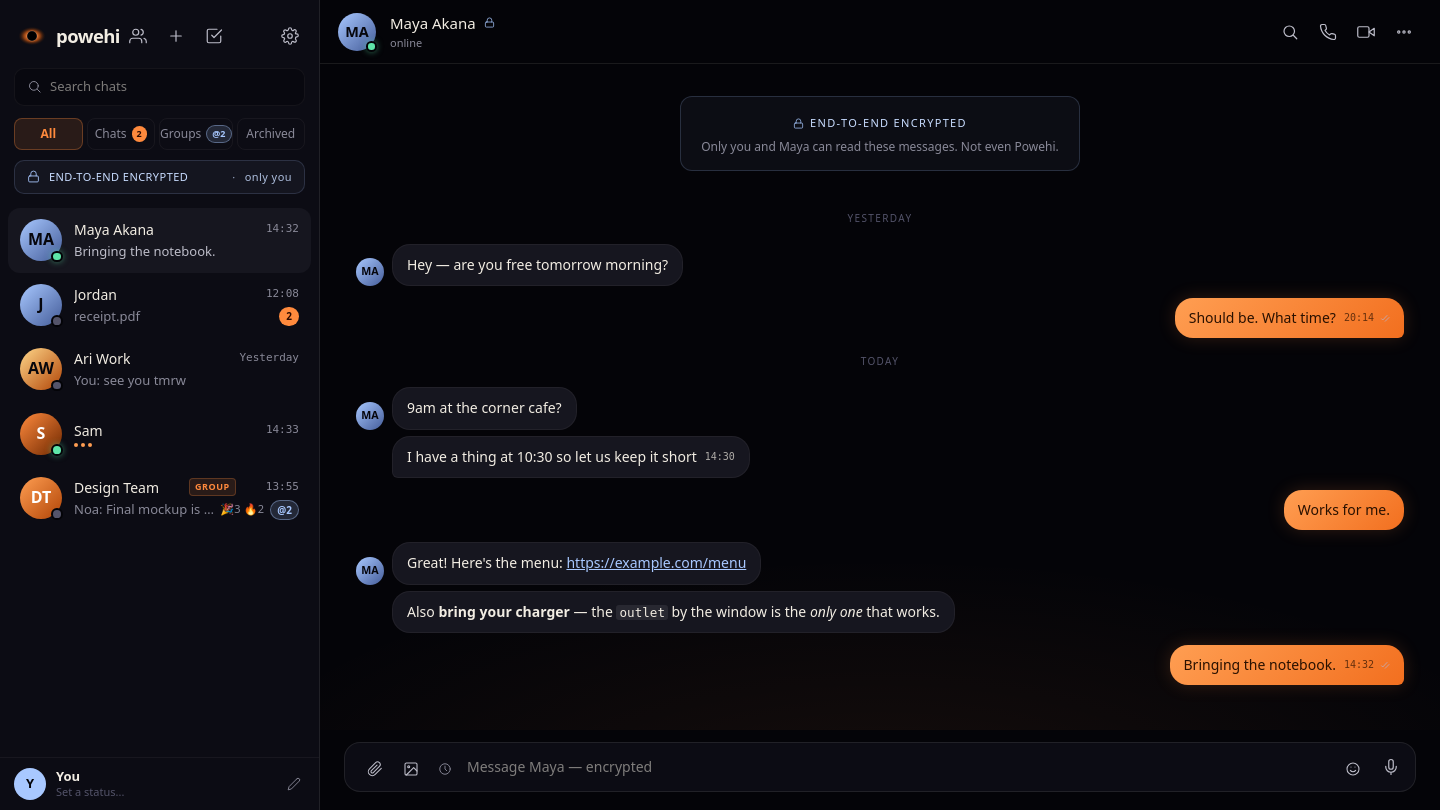
Test: ChatLayout — custom user status › edit status button opens the status editor
Click the button with test id "user-status-edit-btn".
click(294, 784)  # box [283,773,305,795]
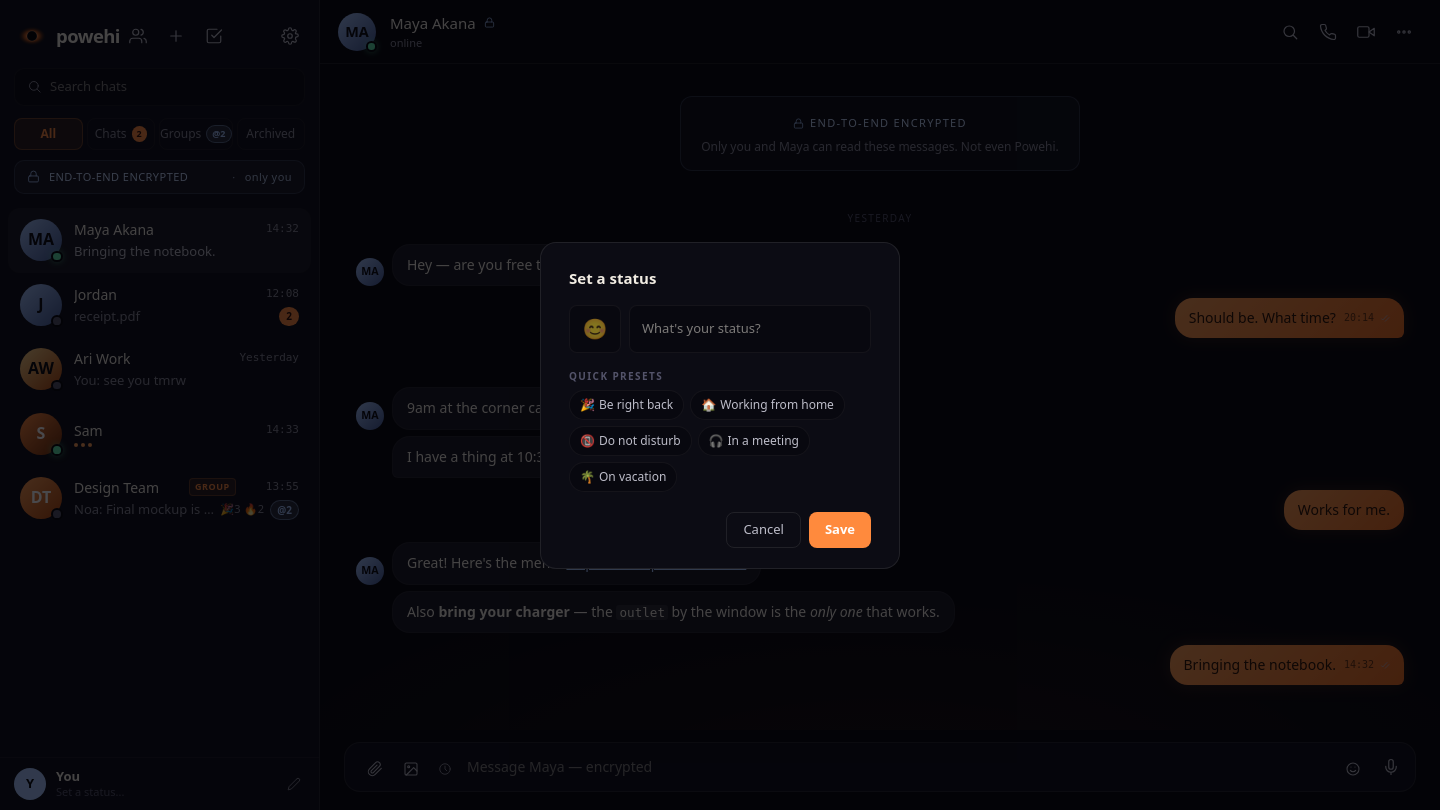
expect the element with test id "status-editor" is shown: met, box [540,242,900,568]
